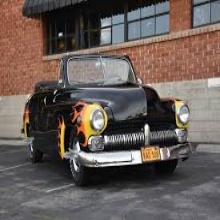no damage: (21, 51, 191, 185)
